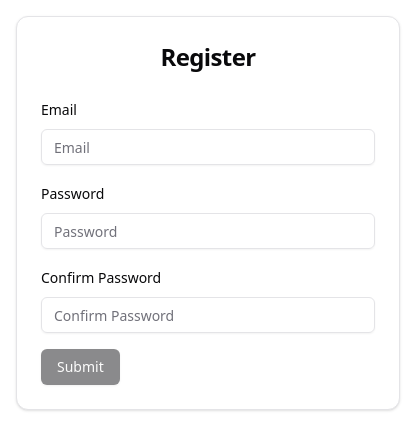
Test: Register Form › should button be enabled when all inputs are filled
Type "alireza@test.com" into the field labelled "Email".
click(208, 147); type("alireza@test.com")  # box [41, 129, 375, 165]
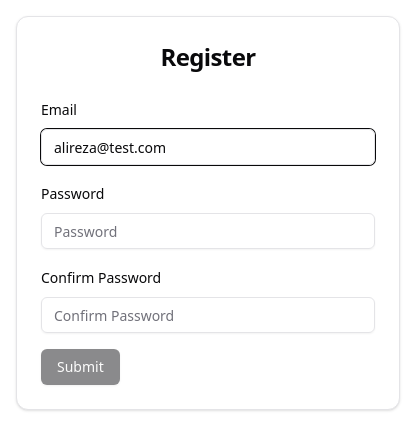
Type "12345" into the password field labelled "Password".
click(208, 231); type("12345")  # box [41, 213, 375, 249]
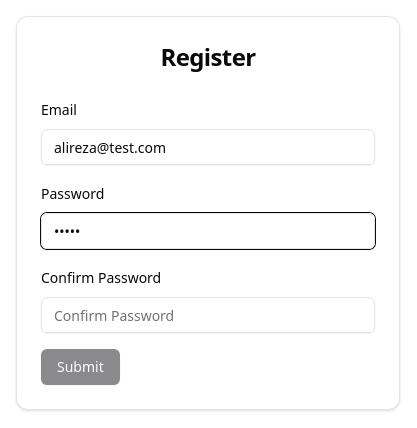
Type "12345" into the password field labelled "Confirm Password".
click(208, 315); type("12345")  # box [41, 297, 375, 333]
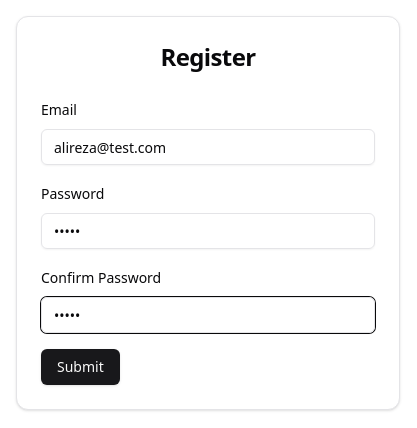
Expected: the button "Submit" is enabled, [41, 349, 120, 385]
